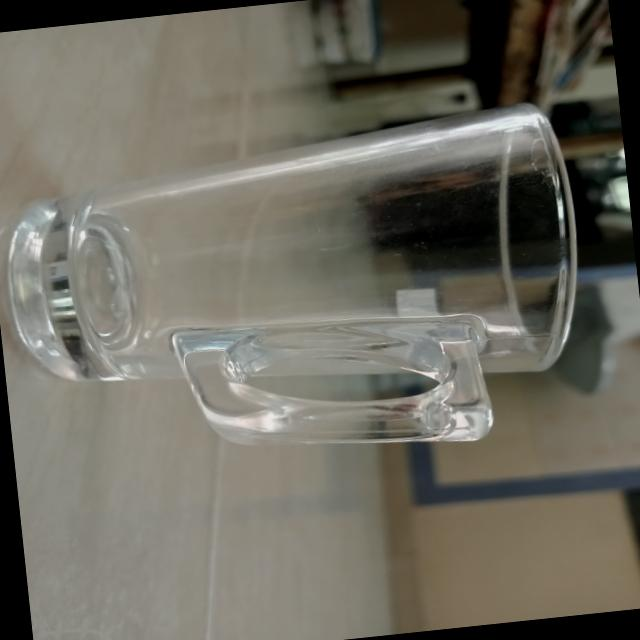glass-VX4N: (0, 93, 604, 494)
